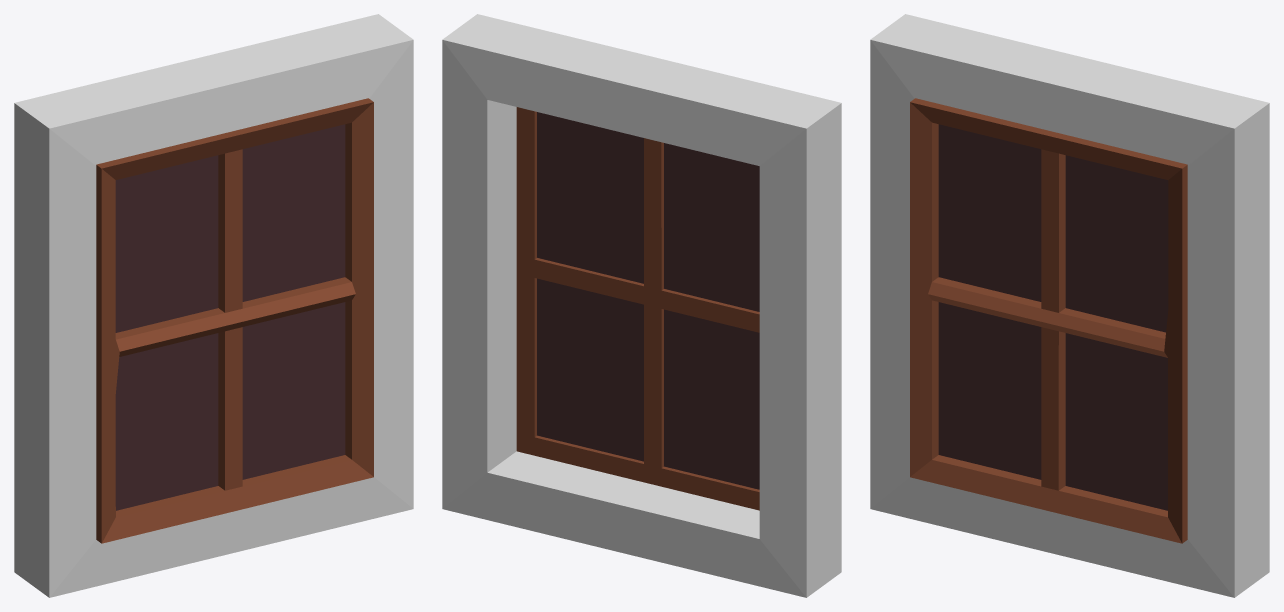
Rendered from pintumainmenujendela.fbx.
3 views of the same model, side by side, from view 1: azimuth 30°, elevation 25°; view 2: azimuth 150°, elevation 25°; view 3: azimuth 330°, elevation 25° (orthographic).
Parts seen in each view (by area): view 1: Cube.011, Cube.010; view 2: Cube.010, Cube.011; view 3: Cube.011, Cube.010.
Part boxes in pixels (x1,y1,x2,y2): Cube.011: (96,98,373,543); Cube.010: (14,14,413,597); Cube.010: (442,14,841,597); Cube.011: (516,107,759,510); Cube.011: (910,98,1187,543); Cube.010: (870,14,1269,597).
Size of the model in its own units: 231 by 285 by 46.61.
